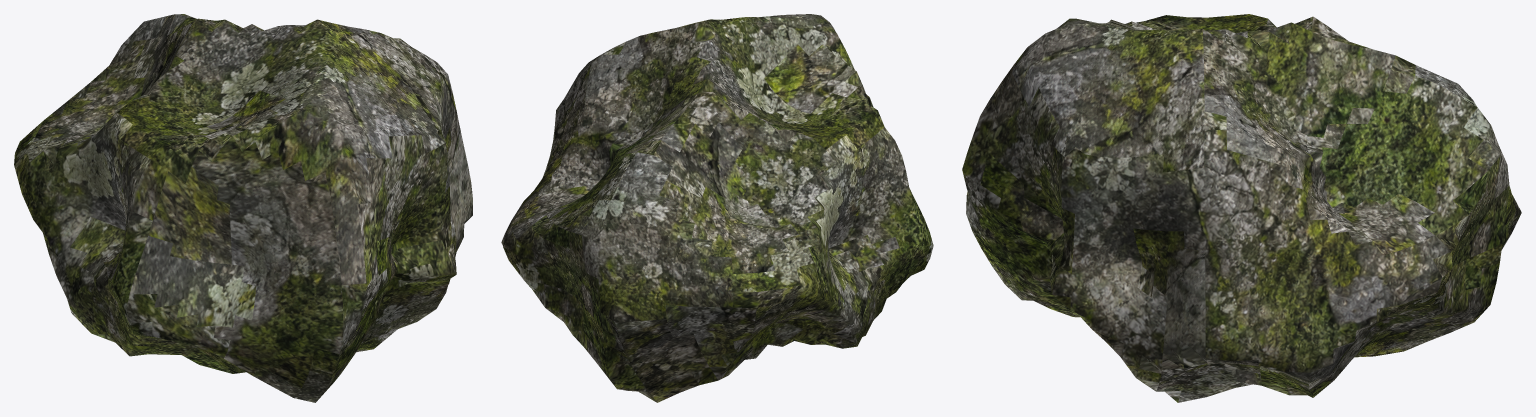
File: my_rock3.glb
3 views of the same model, side by side, from view 1: azimuth 30°, elevation 25°; view 2: azimuth 150°, elevation 25°; view 3: azimuth 270°, elevation 25° (orthographic). The views are drawn at different scales.
Visible parts, largest first — view 1: Cube; view 2: Cube; view 3: Cube.
Boxes of the visible parts, x1=… form: Cube: x1=14, y1=14, x2=472, y2=402; Cube: x1=501, y1=14, x2=933, y2=402; Cube: x1=962, y1=14, x2=1521, y2=402.
Bounding box in the file's own units: 3.36 × 2.75 × 3.98.
Materials: 1 (1 with a texture image).
